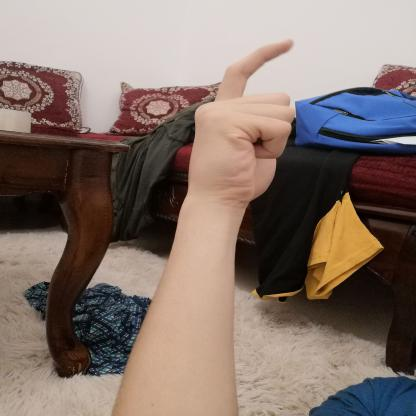RAA: (169, 27, 309, 211)
